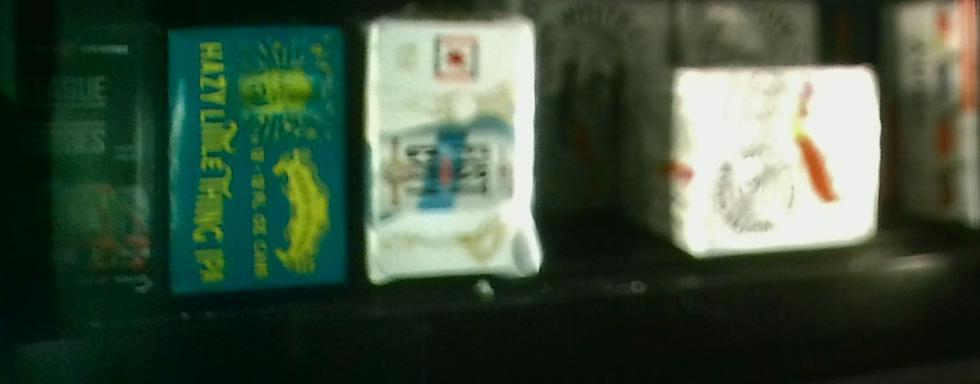bottle: (1, 23, 170, 307), (365, 18, 542, 287), (172, 26, 350, 289), (627, 67, 882, 247)
